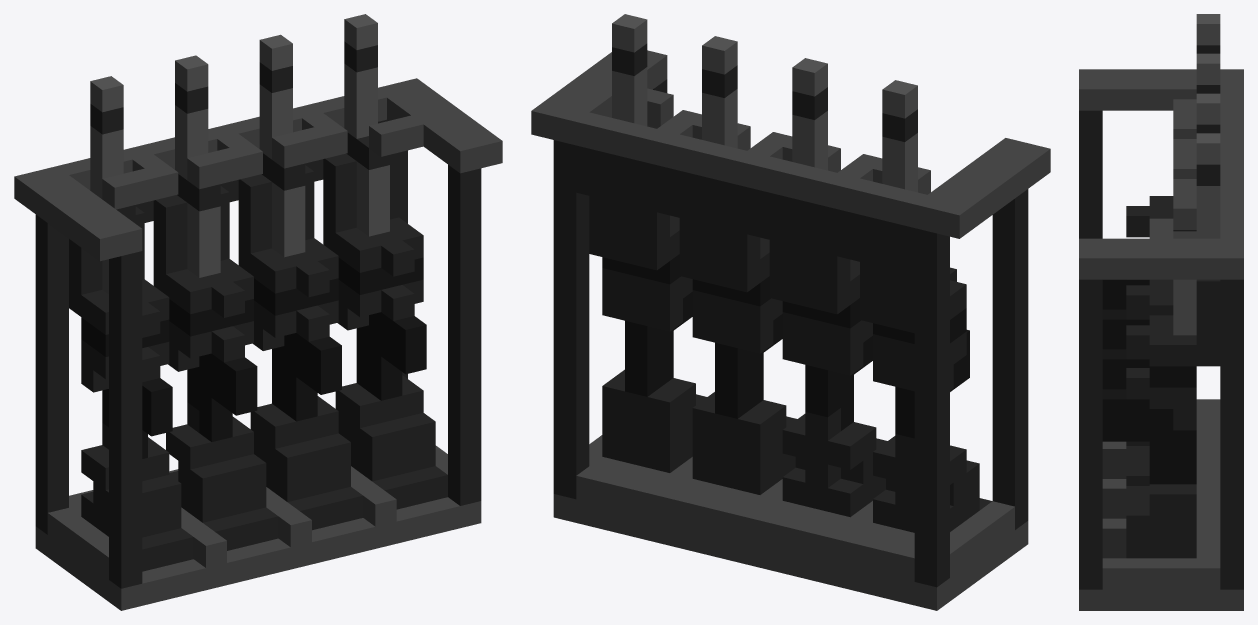
File: Security Gun Rack 1.obj
The picture shows the model from 3 angles, left to right: view 1: azimuth 30°, elevation 25°; view 2: azimuth 150°, elevation 25°; view 3: azimuth 270°, elevation 25°; orthographic projection. The views are drawn at different scales.
Size of the model in its own units: 19 by 21 by 7.
1 material, 1 textured.
